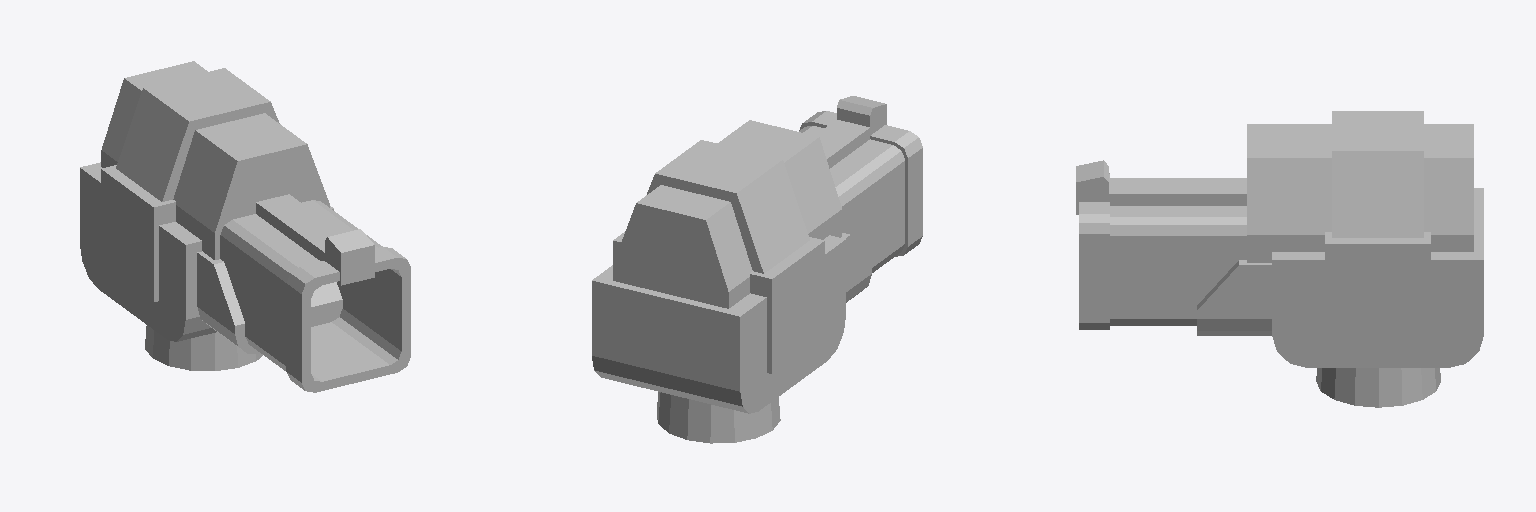
Rendered from Turret_Cannon_Top_Cylinder.obj.
3 views of the same model, side by side, from view 1: azimuth 30°, elevation 25°; view 2: azimuth 150°, elevation 25°; view 3: azimuth 270°, elevation 25° (orthographic).
Visible parts, largest first — view 1: Turret_Cannon_Top_Cylinder.031; view 2: Turret_Cannon_Top_Cylinder.031; view 3: Turret_Cannon_Top_Cylinder.031.
Boxes of the visible parts, x1=… form: Turret_Cannon_Top_Cylinder.031: x1=80, y1=61, x2=410, y2=392; Turret_Cannon_Top_Cylinder.031: x1=592, y1=96, x2=922, y2=443; Turret_Cannon_Top_Cylinder.031: x1=1076, y1=111, x2=1483, y2=407.
Size of the model in its own units: 0.323 by 0.4855 by 0.7165.